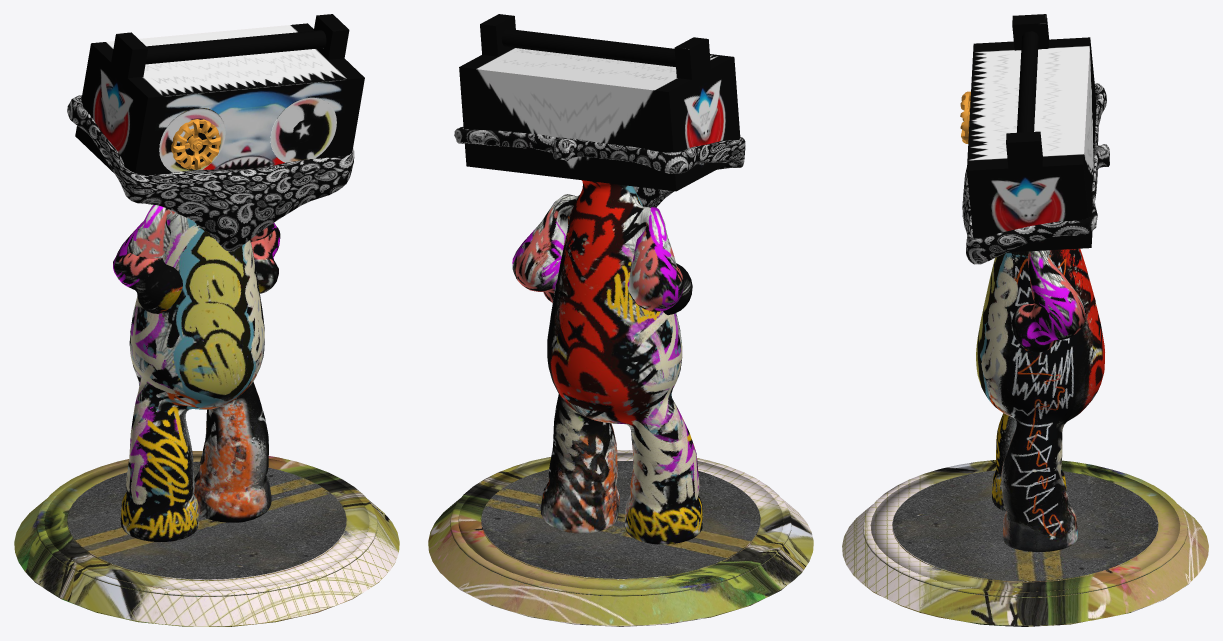
3 renders of one model, left to right at view 1: azimuth 30°, elevation 25°; view 2: azimuth 150°, elevation 25°; view 3: azimuth 270°, elevation 25°, orthographic. The views are drawn at different scales.
Visible parts, largest first — view 1: BBody; view 2: BBody; view 3: BBody.
Part boxes in pixels (<box>): BBody: <box>14,14,399,626</box>; BBody: <box>428,14,813,626</box>; BBody: <box>842,14,1208,626</box>.
Bounding box in the file's own units: 1.45 × 2.17 × 1.45.
6 materials, 6 textured.
